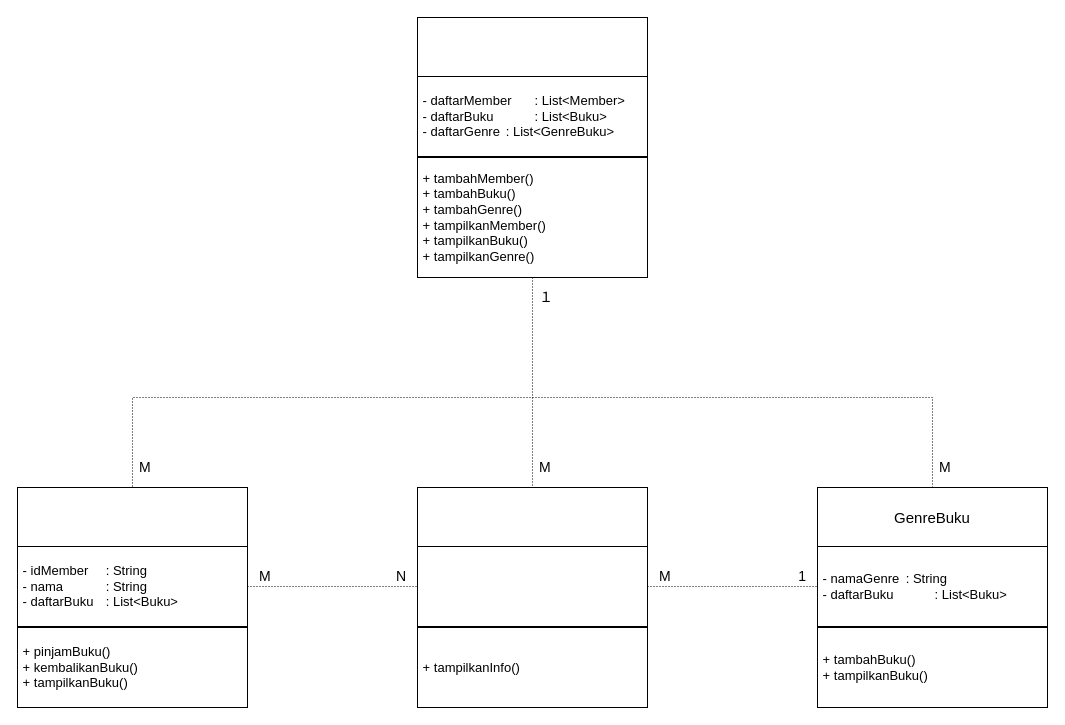
Some shapes in this 1065 by 725 pixel diagram are drawn without their labels. Here are the shapes that lost their labels. From the top down, the box of each, then its label:
(416, 16, 648, 78): AplikasiPerpus
(16, 486, 248, 548): Member
(416, 486, 648, 548): Buku
(416, 546, 648, 626): - judul : String - penulis : String - kodeBuku : String - genre : GenreBuku
